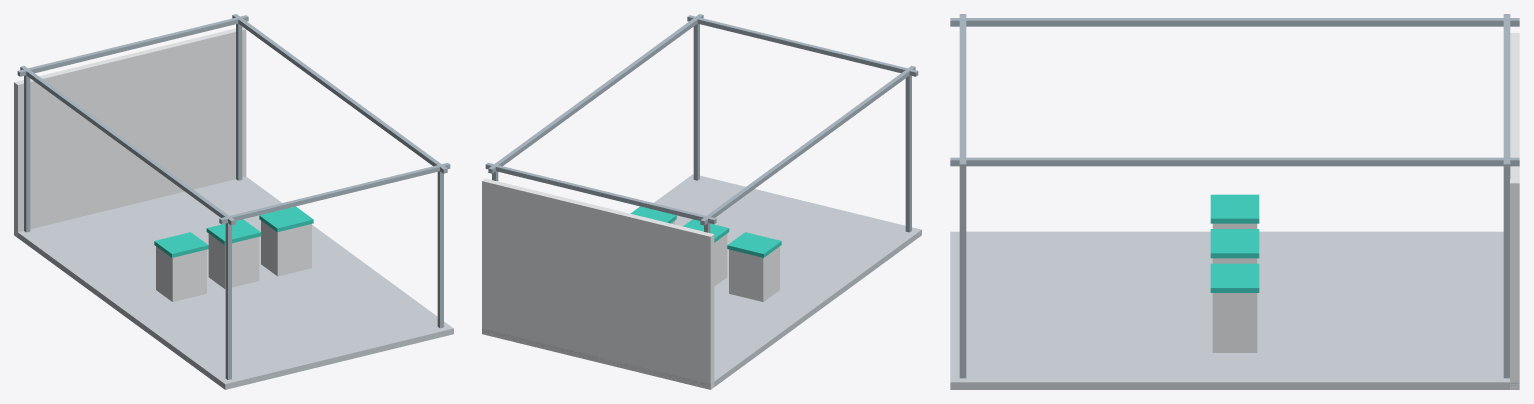
3 renders of one model, left to right at view 1: azimuth 30°, elevation 25°; view 2: azimuth 150°, elevation 25°; view 3: azimuth 270°, elevation 25°, orthographic. The views are drawn at different scales.
Parts seen in each view (by area): view 1: Exhibition Booth Concept; view 2: Exhibition Booth Concept; view 3: Exhibition Booth Concept.
Part boxes in pixels (x1,y1,x2,y2): Exhibition Booth Concept: (14,14,453,389); Exhibition Booth Concept: (482,14,921,389); Exhibition Booth Concept: (950,14,1519,389).
Size of the model in its own units: 5 by 3.49 by 8.
